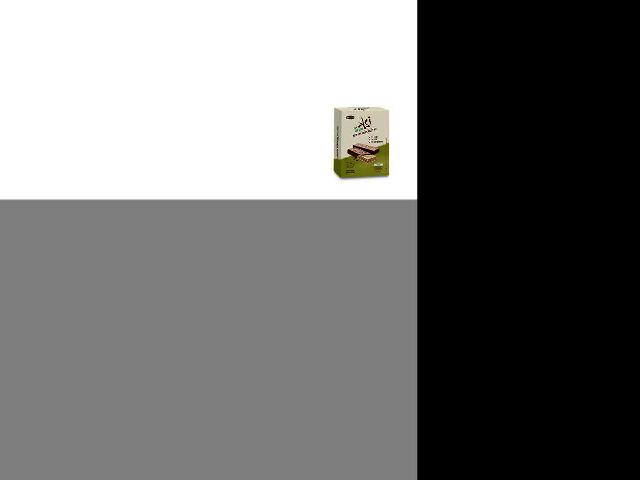chocolate: (329, 106, 390, 180)
